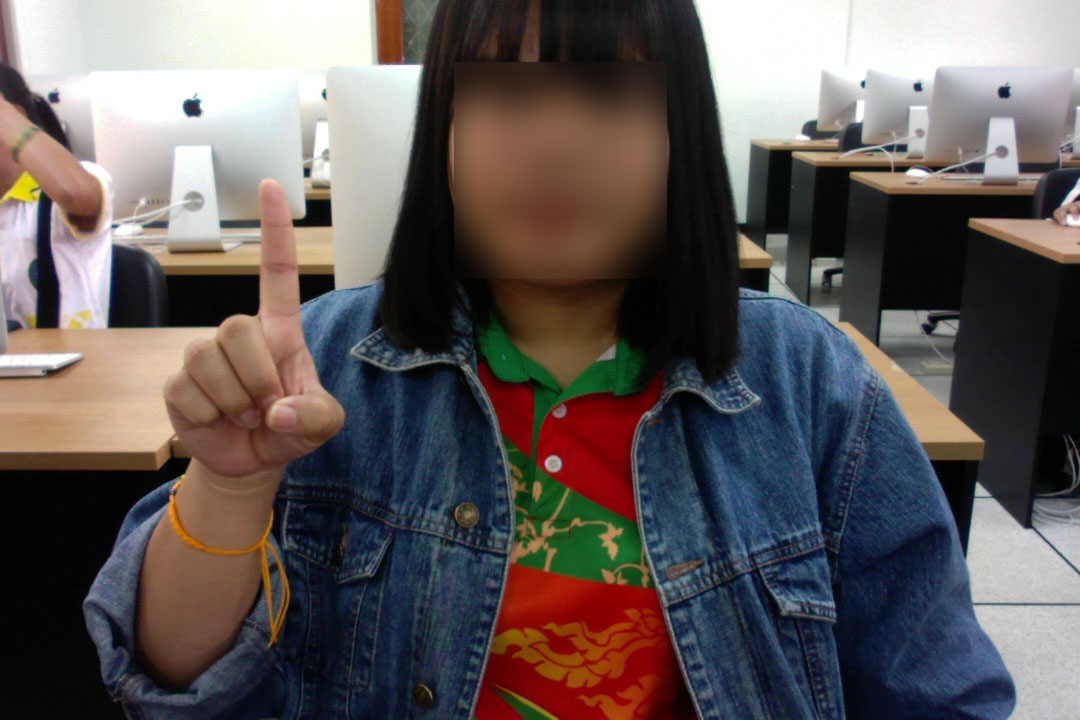dor: (159, 170, 349, 493)
